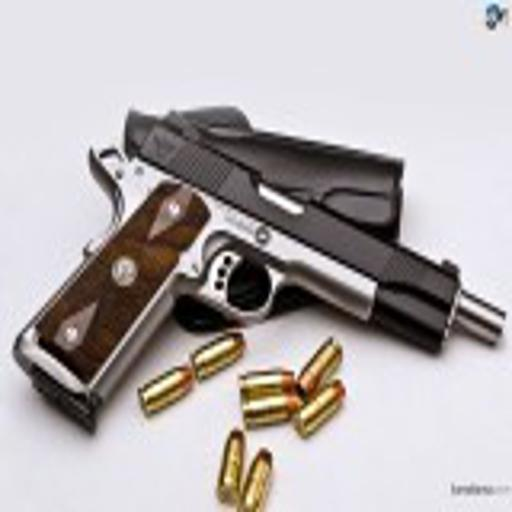Handgun: (11, 105, 504, 434)
